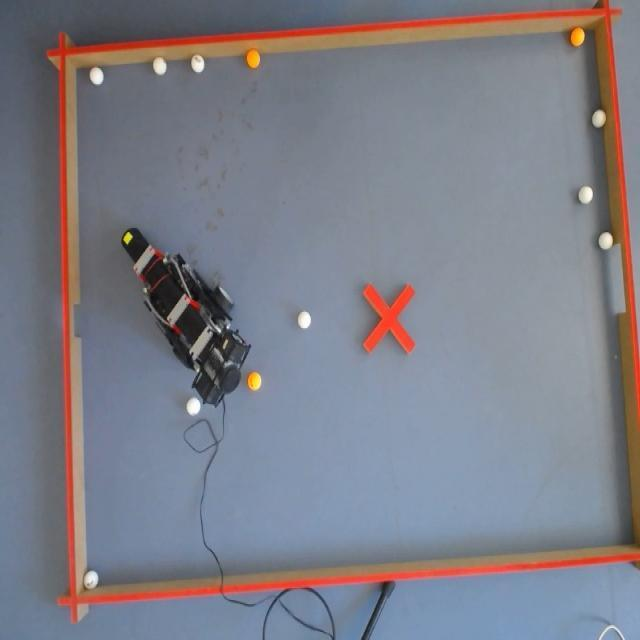orange: (570, 28, 588, 46), (246, 50, 260, 68), (248, 372, 262, 389)
robot: (120, 238, 250, 394)
white: (591, 109, 606, 130), (186, 397, 201, 416), (298, 310, 312, 330), (90, 66, 105, 84), (580, 185, 594, 204), (598, 230, 612, 248), (85, 570, 98, 589), (154, 55, 166, 75), (192, 54, 204, 70)
